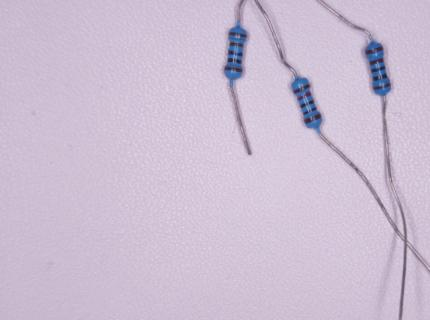Brown band: (369, 58, 383, 65), (229, 42, 243, 47)
